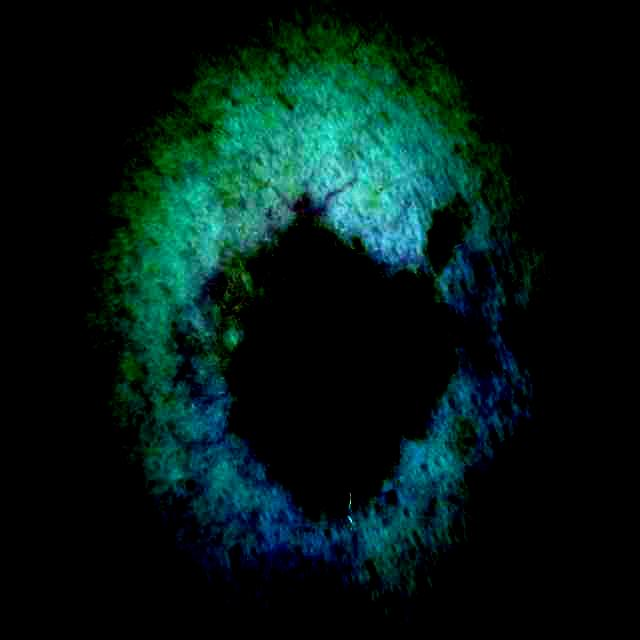BKL: (239, 220, 452, 517), (429, 209, 462, 271)
